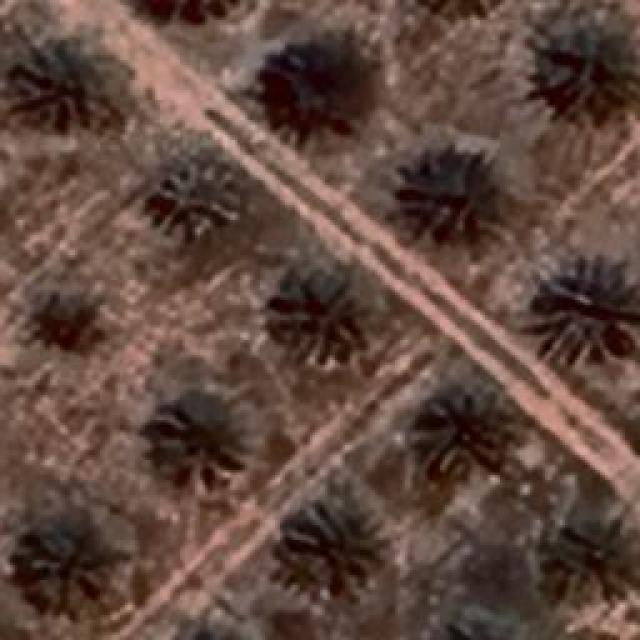PalmTree: (66, 82, 455, 321), (5, 28, 120, 130), (530, 0, 635, 110), (534, 257, 638, 365), (264, 48, 382, 142), (282, 500, 388, 602), (542, 510, 638, 608), (412, 387, 512, 475), (272, 275, 366, 363), (19, 527, 122, 605), (155, 395, 250, 475), (150, 155, 240, 235), (434, 610, 526, 640), (125, 0, 250, 20), (160, 617, 258, 640), (160, 622, 264, 640), (410, 0, 508, 17), (410, 0, 510, 11)
